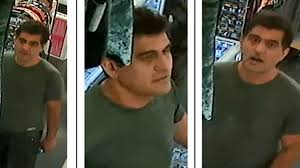middle_eastern_male: (243, 11, 293, 77)
